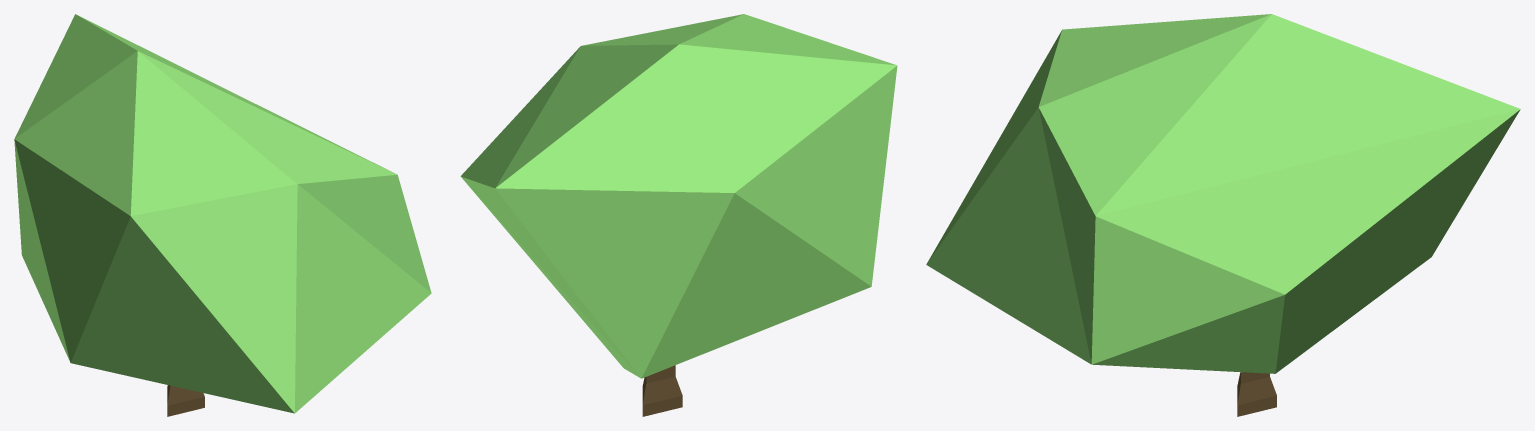
The model's file is Bush_2.fbx.
3 renders of one model, left to right at view 1: azimuth 30°, elevation 25°; view 2: azimuth 150°, elevation 25°; view 3: azimuth 270°, elevation 25°, orthographic. The views are drawn at different scales.
Parts seen in each view (by area): view 1: Icosphere, Cylinder; view 2: Icosphere, Cylinder; view 3: Icosphere, Cylinder.
Boxes of the visible parts, bbox=[...] form: Icosphere: bbox=[14, 14, 431, 413]; Cylinder: bbox=[167, 385, 204, 416]; Icosphere: bbox=[460, 14, 897, 378]; Cylinder: bbox=[642, 365, 682, 416]; Icosphere: bbox=[926, 14, 1520, 373]; Cylinder: bbox=[1237, 372, 1276, 416].
Bounding box in the file's own units: 204 × 209 × 299.
